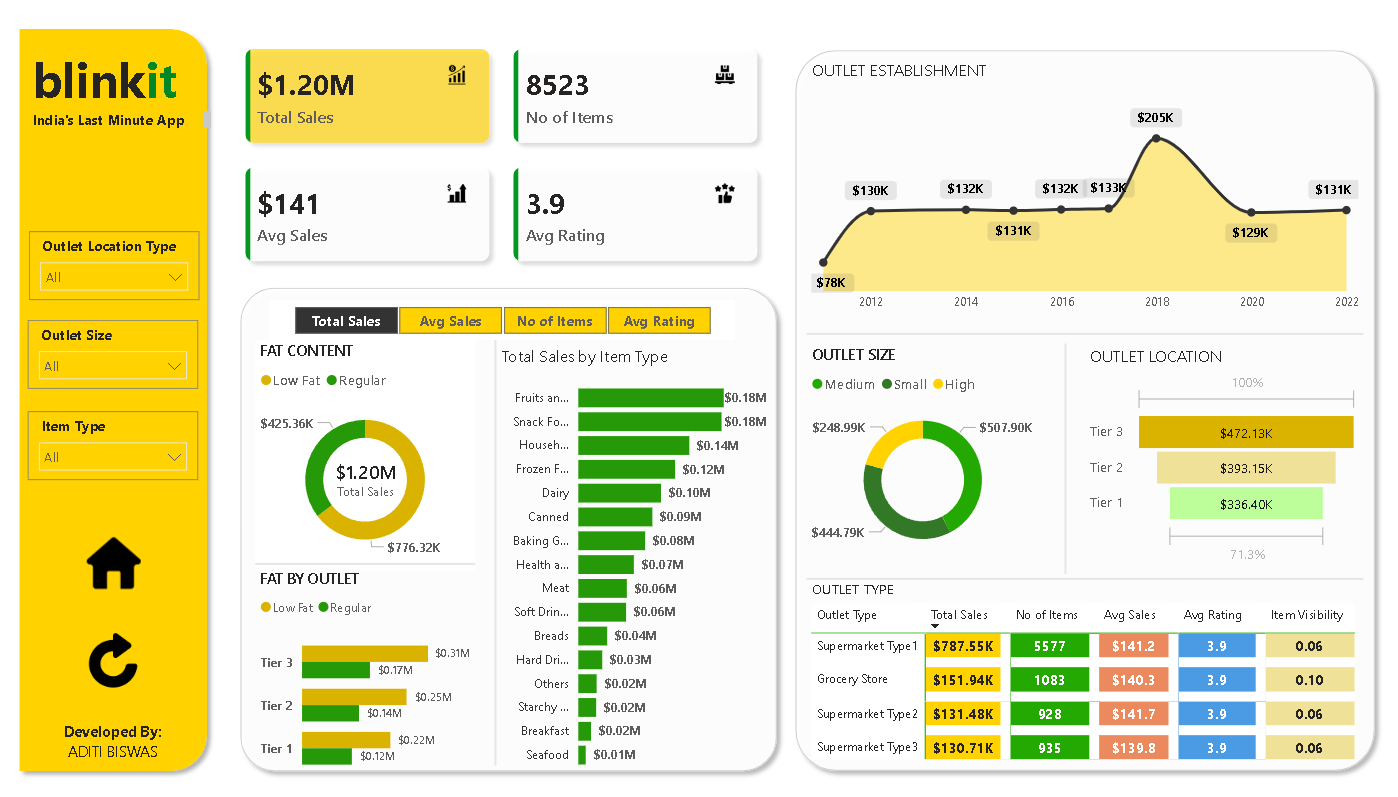

This screenshot's page, from the dashboard's own definition file:
{"tool":"powerbi","page":{"name":"Page 1","canvas":[1400,800],"ordinal":0},"visuals":[{"type":"shape","box":[11.4,20,205.7,760],"z":0},{"type":"textbox","box":[28.6,41.4,170,78.6],"z":1000},{"type":"textbox","box":[28.6,105.7,188.6,27.1],"z":2000},{"type":"cardVisual","fields":{"Data":["BlinkIT Grocery Data.Total Sales","BlinkIT Grocery Data.No of Items","BlinkIT Grocery Data.Avg Sales","BlinkIT Grocery Data.Avg Rating"]},"box":[217.5,20,570,270],"z":3000},{"type":"shape","box":[232.9,278.6,554.3,501.4],"z":4000},{"type":"donutChart","title":"FAT CONTENT","fields":{"Y":["BlinkIT Grocery Data.Total Sales"],"Category":["BlinkIT Grocery Data.Item Fat Content"]},"box":[255.7,340,220,230],"z":5000},{"type":"slicer","fields":{"Values":["Metrics.Metrics"]},"box":[270,300,465.7,40],"z":6000},{"type":"cardVisual","fields":{"Data":["BlinkIT Grocery Data.Total Sales"]},"box":[305.7,438.6,121.4,81.4],"z":7000},{"type":"clusteredBarChart","title":"FAT BY OUTLET","fields":{"Y":["BlinkIT Grocery Data.Total Sales"],"Category":["BlinkIT Grocery Data.Outlet Location Type"],"Series":["BlinkIT Grocery Data.Item Fat Content"]},"box":[255.7,567.1,220,221.4],"z":8000},{"type":"shape","box":[255.7,557.1,220,12.9],"z":9000},{"type":"shape","box":[490,340,12.9,425.7],"z":10000},{"type":"barChart","fields":{"Y":["BlinkIT Grocery Data.Total Sales"],"Category":["BlinkIT Grocery Data.Item Type"]},"box":[497.1,344.3,275.7,435.7],"z":11000},{"type":"shape","box":[787.1,41.4,597.1,738.6],"z":12000},{"type":"lineChart","title":"OUTLET ESTABLISHMENT","fields":{"Y":["BlinkIT Grocery Data.Total Sales"],"Category":["BlinkIT Grocery Data.Outlet Establishment Year"]},"box":[807.1,57.1,557.1,262.9],"z":13000},{"type":"donutChart","title":"OUTLET SIZE","fields":{"Y":["BlinkIT Grocery Data.Total Sales"],"Category":["BlinkIT Grocery Data.Outlet Size"]},"box":[807.1,344.3,232.9,222.9],"z":14000},{"type":"shape","box":[807.1,327.1,557.1,12.9],"z":15000},{"type":"funnel","title":"OUTLET LOCATION","fields":{"Y":["BlinkIT Grocery Data.Total Sales"],"Category":["BlinkIT Grocery Data.Outlet Location Type"]},"box":[1085.7,344.3,278.6,225.7],"z":16000},{"type":"shape","box":[1060,344.3,12.9,230],"z":17000},{"type":"pivotTable","title":"OUTLET TYPE","fields":{"Rows":["BlinkIT Grocery Data.Outlet Type"],"Values":["BlinkIT Grocery Data.Total Sales","BlinkIT Grocery Data.No of Items","BlinkIT Grocery Data.Avg Sales","BlinkIT Grocery Data.Avg Rating","Avg(BlinkIT Grocery Data.Item Visibility)"]},"box":[807.1,580,557.1,202.9],"z":18000},{"type":"shape","box":[807.1,572.9,557.1,12.9],"z":19000},{"type":"slicer","fields":{"Values":["BlinkIT Grocery Data.Outlet Location Type"]},"box":[30,231.4,170,68.6],"z":20000},{"type":"slicer","fields":{"Values":["BlinkIT Grocery Data.Outlet Size"]},"box":[28.6,320,170,68.6],"z":21000},{"type":"slicer","fields":{"Values":["BlinkIT Grocery Data.Item Type"]},"box":[28.6,411.4,170,68.6],"z":21001},{"type":"image","box":[82.9,627.1,62.9,65.7],"z":21002},{"type":"image","box":[64.3,512.9,100,100],"z":21003},{"type":"textbox","box":[28.6,715.7,170,50],"z":21004}]}

Visuals, with their boxes in screenshot pixels (x1, y1, x2, y2), scaled from the page's 1400x800 canvas onto the 1398x797 screenshot:
shape: (11, 20, 217, 777)
textbox: (29, 41, 198, 120)
textbox: (29, 105, 217, 132)
cardVisual - BlinkIT Grocery Data.Total Sales x BlinkIT Grocery Data.No of Items: (217, 20, 786, 289)
shape: (233, 278, 786, 777)
"FAT CONTENT" donutChart: (255, 339, 475, 568)
slicer - Metrics.Metrics: (270, 299, 735, 339)
cardVisual - BlinkIT Grocery Data.Total Sales: (305, 437, 426, 518)
"FAT BY OUTLET" clusteredBarChart: (255, 565, 475, 786)
shape: (255, 555, 475, 568)
shape: (489, 339, 502, 763)
barChart - BlinkIT Grocery Data.Total Sales x BlinkIT Grocery Data.Item Type: (496, 343, 772, 777)
shape: (786, 41, 1382, 777)
"OUTLET ESTABLISHMENT" lineChart: (806, 57, 1362, 319)
"OUTLET SIZE" donutChart: (806, 343, 1039, 565)
shape: (806, 326, 1362, 339)
"OUTLET LOCATION" funnel: (1084, 343, 1362, 568)
shape: (1058, 343, 1071, 572)
"OUTLET TYPE" pivotTable: (806, 578, 1362, 780)
shape: (806, 571, 1362, 584)
slicer - BlinkIT Grocery Data.Outlet Location Type: (30, 231, 200, 299)
slicer - BlinkIT Grocery Data.Outlet Size: (29, 319, 198, 387)
slicer - BlinkIT Grocery Data.Item Type: (29, 410, 198, 478)
image: (83, 625, 146, 690)
image: (64, 511, 164, 611)
textbox: (29, 713, 198, 763)
